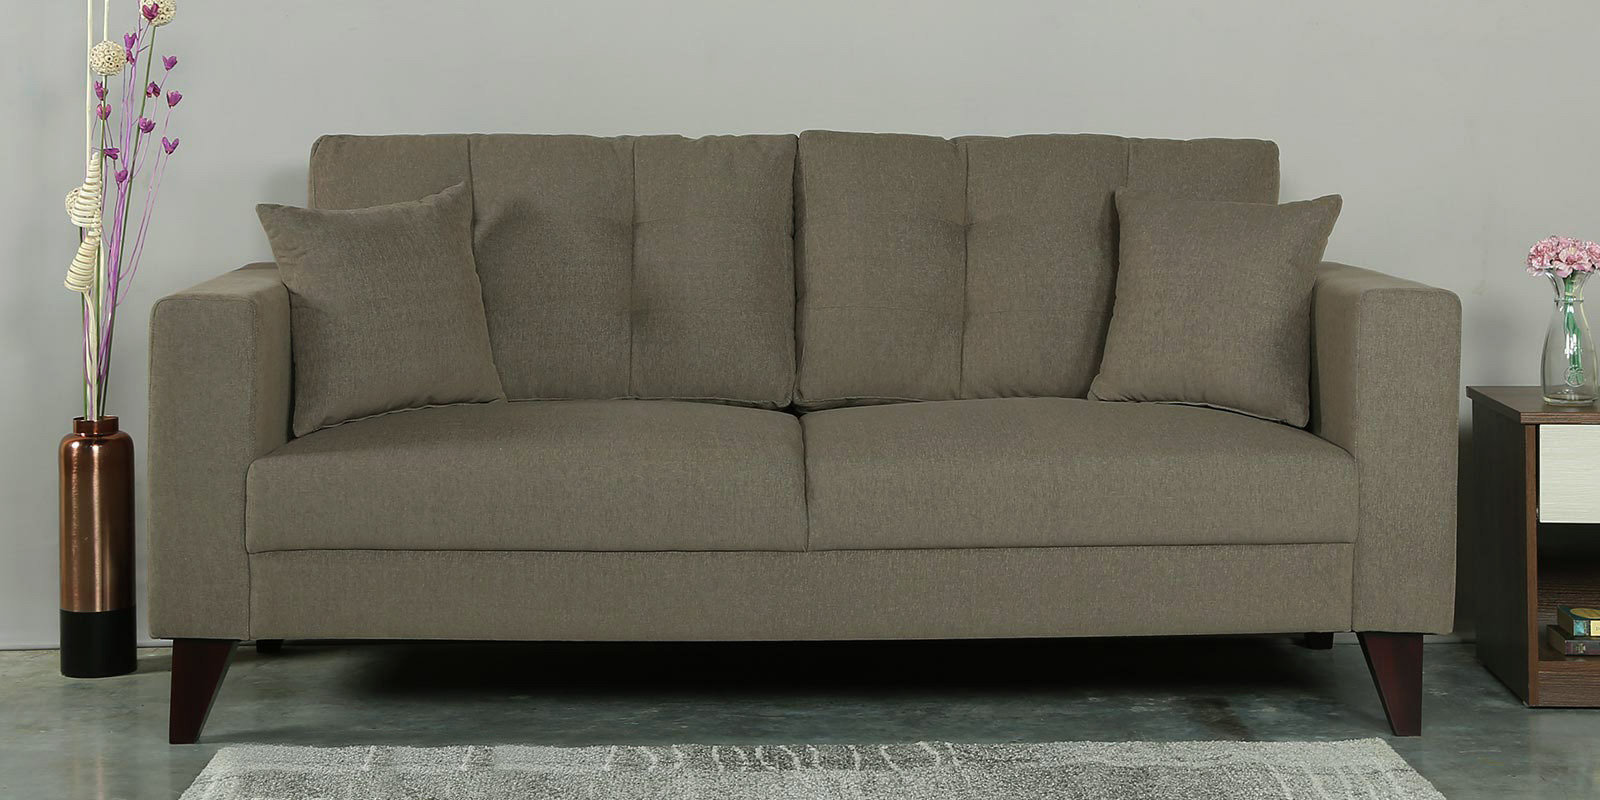Alfredo Three Seater Sofa in Sandy Brown Colour by CasaCraft: (114, 118, 1466, 741)
